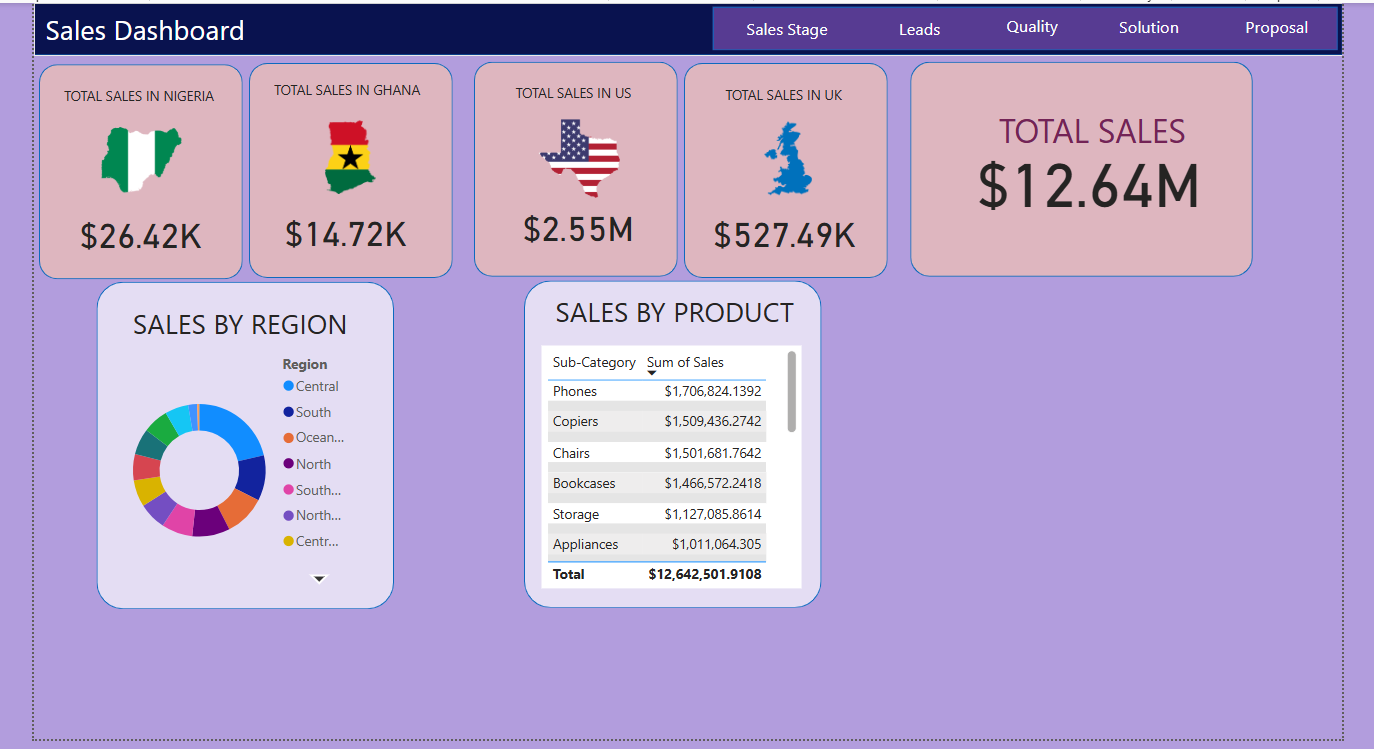

What the dashboard file says about the page in this screenshot:
{"tool":"powerbi","page":{"name":"Page 1","canvas":[1280,720],"ordinal":0},"visuals":[{"type":"shape","box":[0,0,1280.3,51.4],"z":0,"group":"g5"},{"type":"group","id":"g1","title":"Group 1","box":[4.9,60.1,199.3,210.3],"z":0},{"type":"shape","box":[4.9,60.1,199.3,210.3],"z":0,"group":"g1"},{"type":"textbox","box":[6.1,2.4,231.1,45.2],"z":500,"group":"g5"},{"type":"group","id":"g2","title":"Group 4","box":[210.3,58.8,199.3,210.3],"z":1000},{"type":"textbox","box":[24.3,77,172.4,30.6],"z":1000,"group":"g1"},{"type":"group","id":"g3","title":"Group 2","box":[664,3.7,611.4,42.8],"z":1250,"group":"g5"},{"type":"shape","box":[664,3.7,611.4,42.8],"z":2000,"group":"g3"},{"type":"image","box":[61,112.5,88,81.9],"z":2000,"group":"g1"},{"type":"group","id":"g4","title":"Group 7","box":[61.1,272.8,291,320.4],"z":2000},{"type":"shape","box":[430.4,57.2,199.3,210.3],"z":2500,"group":"g6"},{"type":"shape","box":[210.3,58.8,199.3,210.3],"z":2500,"group":"g2"},{"type":"group","id":"g5","title":"Group 3","box":[0,0,1280.3,51.4],"z":3000},{"type":"textbox","box":[691.8,8.4,102.7,37.9],"z":3000,"group":"g3"},{"type":"card","fields":{"Values":["Sum(SALES_TABLE.Sales)"]},"box":[464.1,191.4,135.7,52.6],"z":3000,"group":"g6"},{"type":"card","fields":{"Values":["Sum(SALES_TABLE.Sales)"]},"box":[237.1,197.2,135.7,52.6],"z":3000,"group":"g2"},{"type":"card","fields":{"Values":["Sum(SALES_TABLE.Sales)"]},"box":[36.7,199.5,135.7,52.6],"z":3000,"group":"g1"},{"type":"textbox","box":[946.5,6.1,85.6,39.1],"z":4000,"group":"g3"},{"type":"group","id":"g6","title":"Group 5","box":[430.4,57.2,199.3,210.3],"z":4000},{"type":"shape","box":[857.2,57.5,335.1,210.3],"z":4000,"group":"g9"},{"type":"shape","box":[635.9,58.5,199.3,210.3],"z":4000,"group":"g7"},{"type":"textbox","box":[230,70.8,170,36.7],"z":4000,"group":"g2"},{"type":"textbox","box":[445.8,72.8,162.6,34.2],"z":4000,"group":"g6"},{"type":"shape","box":[61.1,272.8,291,320.4],"z":4000,"group":"g4"},{"type":"donutChart","fields":{"Category":["CUSTOMERS.Region"],"Y":["Sum(SALES_TABLE.Sales)"]},"box":[75.8,338.7,242.1,237.2],"z":4250,"group":"g4"},{"type":"shape","box":[479.4,271.2,291,320.4],"z":4312,"group":"g8"},{"type":"textbox","box":[486.3,278.3,280,56.3],"z":4500,"group":"g8"},{"type":"textbox","box":[91.7,289.8,245.8,48.9],"z":4500,"group":"g4"},{"type":"textbox","box":[1179.7,7.2,81.9,37.9],"z":5000,"group":"g3"},{"type":"group","id":"g7","title":"Group 6","box":[635.9,58.5,199.3,210.3],"z":5000},{"type":"image","box":[257,110.2,106.4,81.9],"z":5000,"group":"g2"},{"type":"card","fields":{"Values":["Sum(SALES_TABLE.Sales)"]},"box":[896.4,124.2,271.5,90.5],"z":5000,"group":"g9"},{"type":"card","fields":{"Values":["Sum(SALES_TABLE.Sales)"]},"box":[657.9,197.9,152.9,52.6],"z":5000,"group":"g7"},{"type":"image","box":[489.1,100,89.3,103.9],"z":5002,"group":"g6"},{"type":"textbox","box":[841.3,8.6,62.4,34.2],"z":6000,"group":"g3"},{"type":"group","id":"g8","title":"Group 8","box":[479.4,271.2,291,320.4],"z":6000},{"type":"textbox","box":[1056.5,7.4,86.8,39.1],"z":7000,"group":"g3"},{"type":"group","id":"g9","title":"Group 6","box":[857.2,57.5,335.1,210.3],"z":7000},{"type":"image","box":[692.2,111.1,91.7,81.9],"z":7000,"group":"g7"},{"type":"textbox","box":[653.1,75.2,160.2,28.1],"z":8000,"group":"g7"},{"type":"textbox","box":[923.3,97.3,223.8,63.6],"z":8000,"group":"g9"},{"type":"tableEx","fields":{"Values":["PRODUCTS.Sub-Category","Sum(SALES_TABLE.Sales)"]},"box":[496.5,334.8,254.3,237.2],"z":8001,"group":"g8"}]}

Visuals, with their boxes in screenshot pixels (x1, y1, x2, y2):
shape: detection(29, 0, 1340, 49)
"Group 1" group: detection(34, 58, 238, 273)
shape: detection(34, 58, 238, 273)
textbox: detection(35, 0, 272, 45)
"Group 4" group: detection(244, 57, 448, 272)
textbox: detection(54, 75, 230, 107)
"Group 2" group: detection(709, 0, 1335, 44)
shape: detection(709, 0, 1335, 44)
image: detection(91, 112, 181, 196)
"Group 7" group: detection(91, 276, 389, 604)
shape: detection(469, 55, 674, 270)
shape: detection(244, 57, 448, 272)
"Group 3" group: detection(29, 0, 1340, 49)
textbox: detection(737, 5, 842, 44)
card - Sum(SALES_TABLE.Sales): detection(504, 192, 643, 246)
card - Sum(SALES_TABLE.Sales): detection(271, 198, 410, 252)
card - Sum(SALES_TABLE.Sales): detection(66, 201, 205, 255)
textbox: detection(998, 3, 1086, 43)
"Group 5" group: detection(469, 55, 674, 270)
shape: detection(907, 55, 1250, 271)
shape: detection(680, 56, 884, 272)
textbox: detection(264, 69, 438, 107)
textbox: detection(485, 71, 652, 106)
shape: detection(91, 276, 389, 604)
donutChart - CUSTOMERS.Region x Sum(SALES_TABLE.Sales): detection(106, 343, 354, 586)
shape: detection(520, 274, 818, 602)
textbox: detection(527, 281, 814, 339)
textbox: detection(123, 293, 374, 343)
textbox: detection(1237, 4, 1321, 43)
"Group 6" group: detection(680, 56, 884, 272)
image: detection(292, 109, 401, 193)
card - Sum(SALES_TABLE.Sales): detection(947, 124, 1225, 216)
card - Sum(SALES_TABLE.Sales): detection(703, 199, 859, 253)
image: detection(530, 99, 621, 205)
textbox: detection(890, 5, 954, 40)
"Group 8" group: detection(520, 274, 818, 602)
textbox: detection(1111, 4, 1200, 44)
"Group 6" group: detection(907, 55, 1250, 271)
image: detection(738, 110, 832, 194)
textbox: detection(698, 73, 862, 102)
textbox: detection(974, 96, 1204, 161)
tableEx - PRODUCTS.Sub-Category x Sum(SALES_TABLE.Sales): detection(537, 339, 798, 582)
